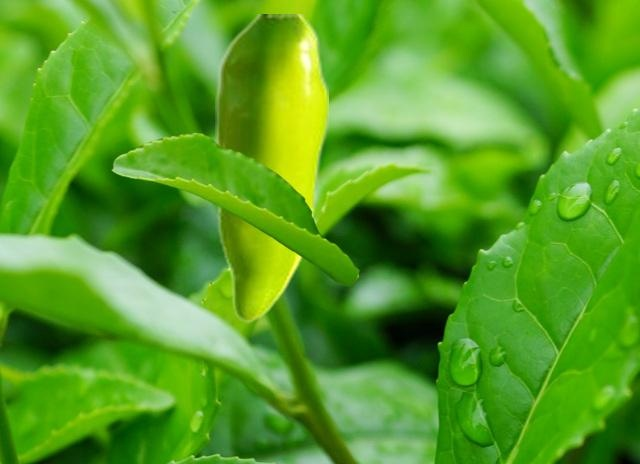green_chili: (215, 14, 327, 322)
